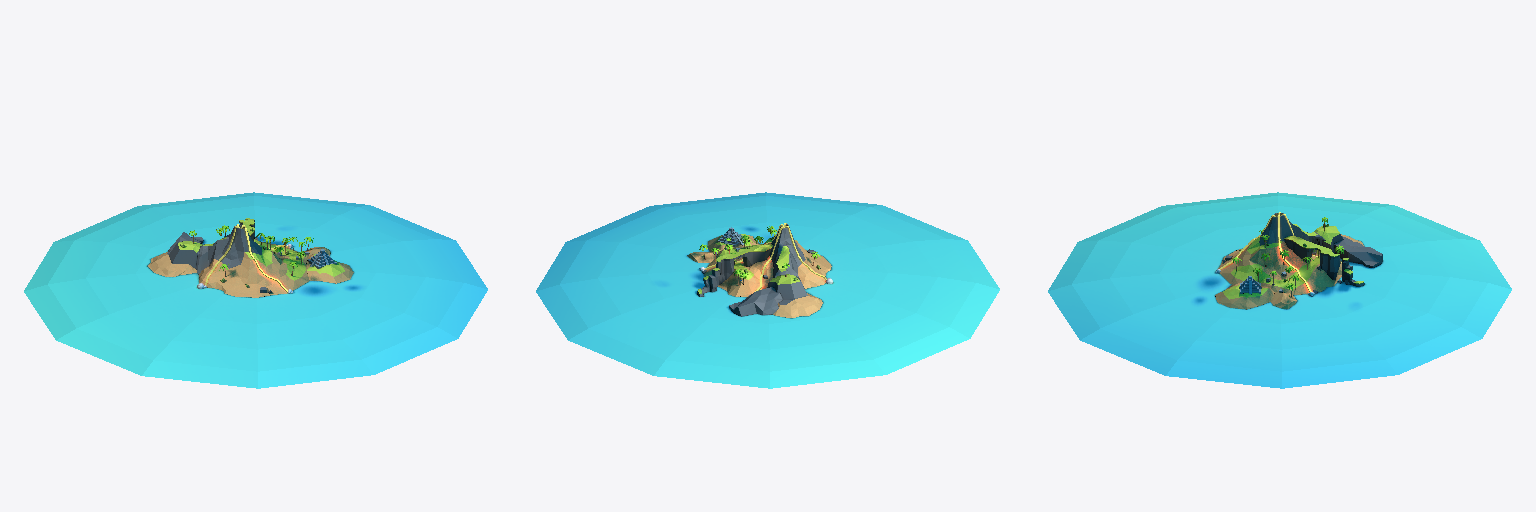
The picture shows the model from 3 angles: view 1: azimuth 30°, elevation 25°; view 2: azimuth 150°, elevation 25°; view 3: azimuth 270°, elevation 25°; orthographic projection.
Visible parts, largest first — view 1: Ocean, Volacano_Sand, Volcano_Base, Volcano_Grass; view 2: Ocean, Volcano_Base, Volacano_Sand, Volcano_Grass; view 3: Ocean, Volacano_Sand, Volcano_Base, Volcano_Grass.
Part boxes in pixels (x1,y1,x2,y2): Ocean: (24, 192, 487, 388); Volacano_Sand: (148, 239, 353, 297); Volcano_Base: (167, 220, 305, 293); Volcano_Grass: (178, 237, 344, 280); Ocean: (536, 192, 999, 388); Volcano_Base: (697, 224, 815, 316); Volacano_Sand: (687, 235, 831, 317); Volcano_Grass: (716, 234, 799, 284); Ocean: (1048, 192, 1511, 388); Volacano_Sand: (1215, 234, 1363, 309); Volcano_Base: (1222, 213, 1382, 293); Volcano_Grass: (1223, 224, 1339, 299).
Size of the model in its own units: 1599 by 262 by 1599.
14 materials, 14 textured.